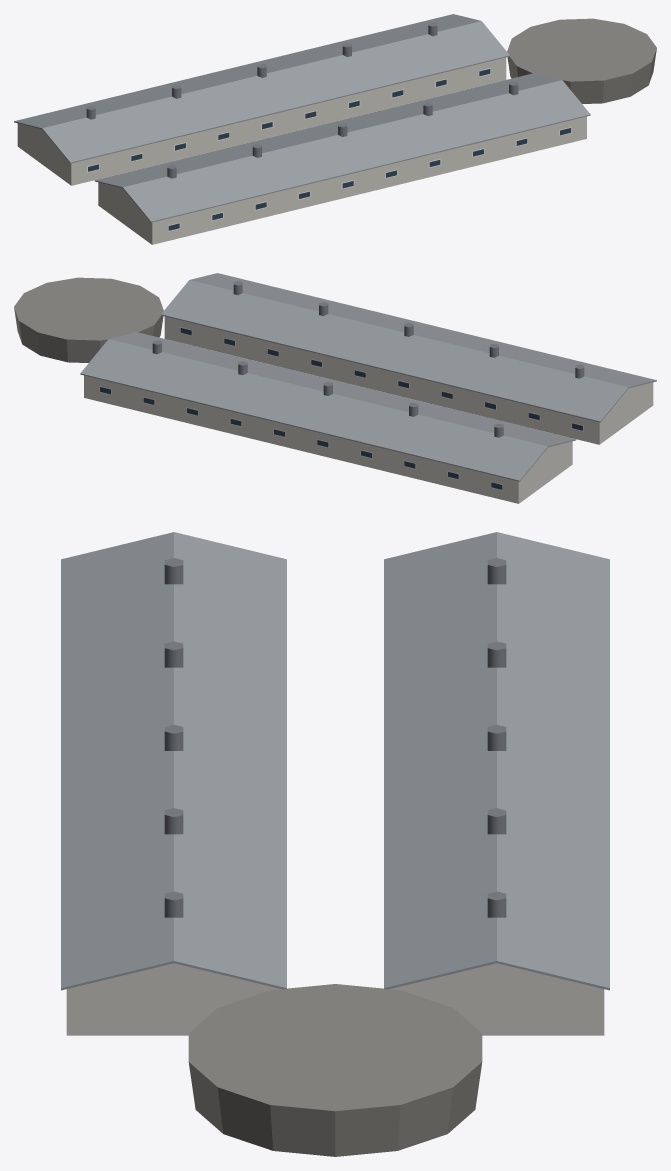
File: porcherie.glb
3 views of the same model, one above another, from view 1: azimuth 30°, elevation 25°; view 2: azimuth 150°, elevation 25°; view 3: azimuth 270°, elevation 25° (orthographic). The views are drawn at different scales.
Parts seen in each view (by area): view 1: porcherie; view 2: porcherie; view 3: porcherie.
Boxes of the visible parts, box(x1,y1,x2,y2) form: porcherie: box(14, 14, 656, 244); porcherie: box(14, 273, 656, 503); porcherie: box(61, 532, 609, 1156).
Bounding box in the file's own units: 72.7 × 5.8 × 30.6.
1 material, 1 textured.
